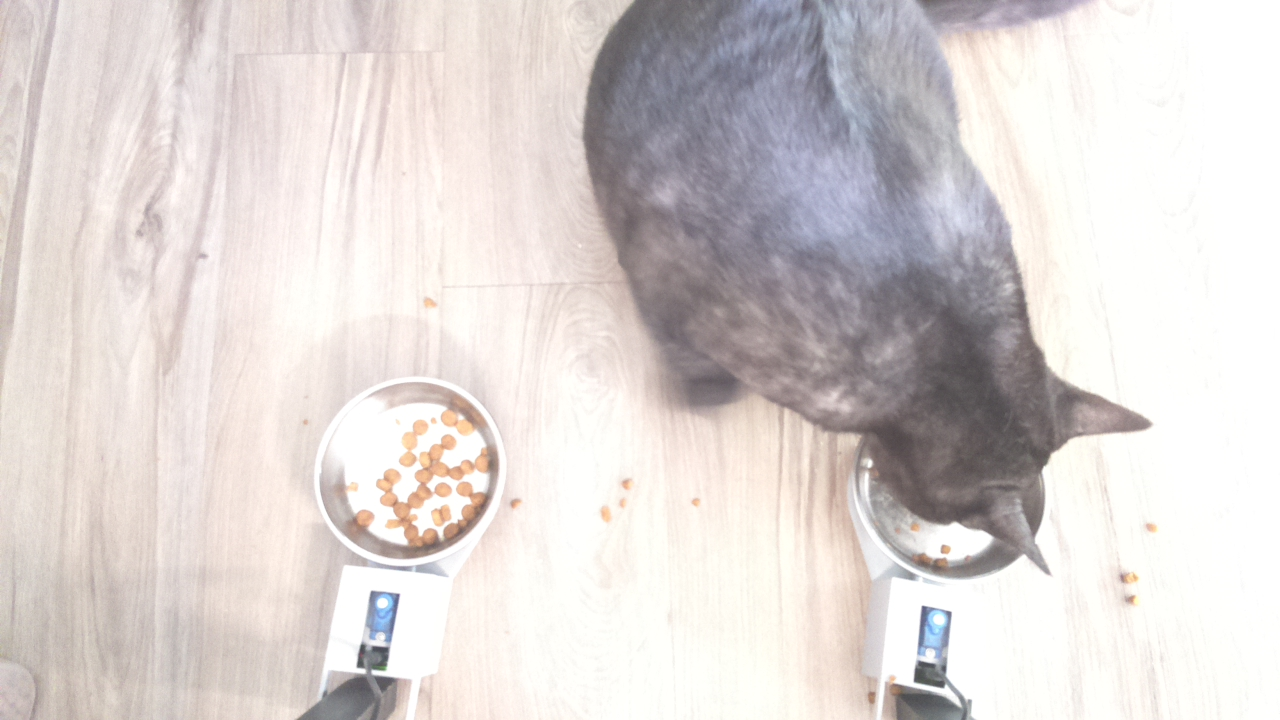open_bowl: (309, 375, 501, 570)
saki_eating: (845, 304, 1162, 591)
